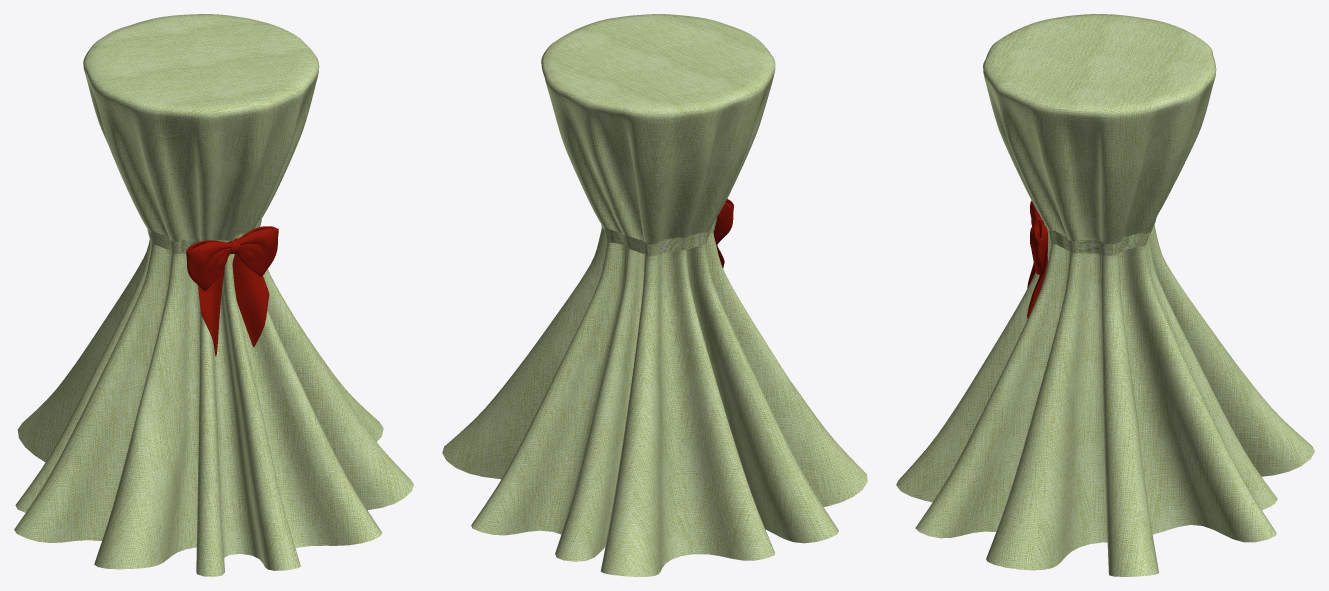
File: bar_stool.glb
3 views of the same model, side by side, from view 1: azimuth 30°, elevation 25°; view 2: azimuth 150°, elevation 25°; view 3: azimuth 270°, elevation 25° (orthographic).
Parts seen in each view (by area): view 1: Circle.022; view 2: Circle.022; view 3: Circle.022.
Boxes of the visible parts, x1,y1,x2,y2 form: Circle.022: (14,14,413,576); Circle.022: (442,14,867,576); Circle.022: (896,14,1314,576).
Bounding box in the file's own units: 1.09 × 1.23 × 1.05.
2 materials, 1 textured.
